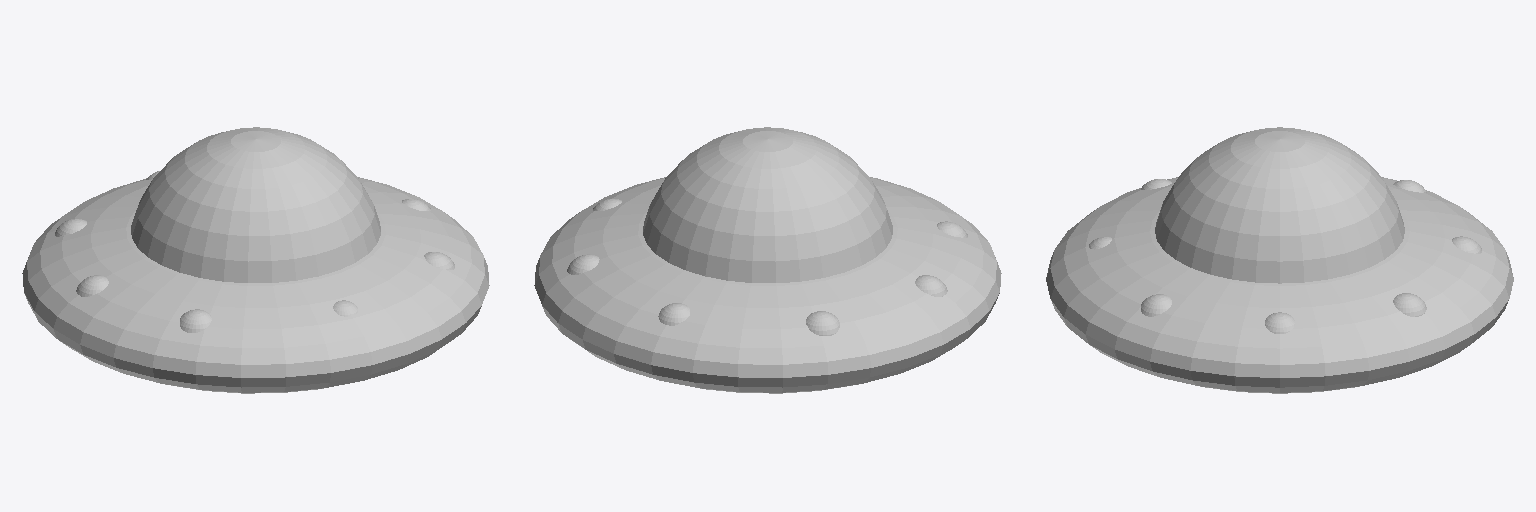
File: UFO.obj
3 renders of one model, left to right at view 1: azimuth 30°, elevation 25°; view 2: azimuth 150°, elevation 25°; view 3: azimuth 270°, elevation 25°, orthographic.
Visible parts, largest first — view 1: 球.001; view 2: 球.001; view 3: 球.001.
Part boxes in pixels (left/top/right/bottom): 球.001: left=22, top=127, right=489, bottom=393; 球.001: left=534, top=127, right=1001, bottom=393; 球.001: left=1046, top=127, right=1513, bottom=393.
Bounding box in the file's own units: 2 × 1.1 × 2.